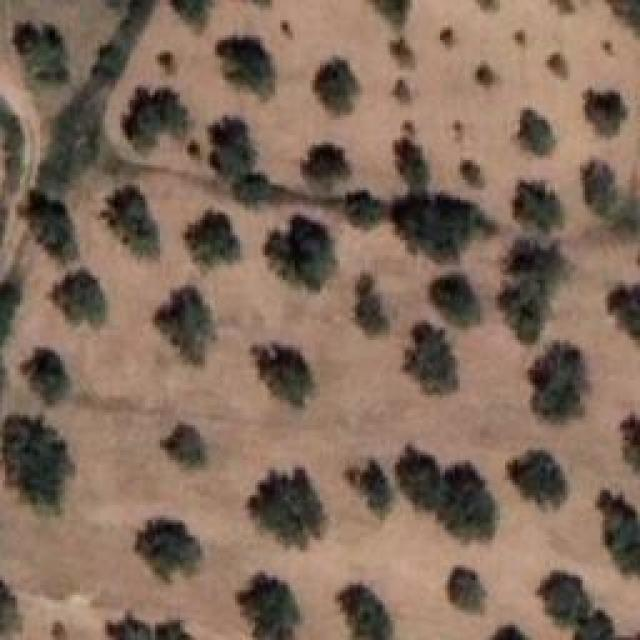Tree: (498, 238, 567, 344), (390, 193, 496, 261), (248, 468, 327, 548), (8, 418, 74, 511), (265, 215, 339, 291), (155, 285, 215, 365), (438, 464, 498, 544), (528, 343, 587, 421), (102, 185, 160, 258), (135, 518, 201, 581), (403, 323, 459, 396), (123, 88, 188, 150), (238, 573, 297, 640), (253, 343, 314, 406), (508, 450, 569, 508), (30, 190, 79, 262), (50, 270, 108, 327), (220, 40, 276, 99), (395, 442, 440, 514), (602, 490, 640, 575), (185, 210, 241, 267), (13, 25, 68, 83), (338, 585, 393, 640), (207, 115, 255, 178), (538, 573, 593, 626), (312, 58, 360, 116), (345, 460, 391, 520), (23, 348, 72, 404), (430, 277, 481, 327), (515, 180, 564, 232), (107, 615, 195, 640), (580, 160, 618, 216), (355, 273, 389, 334), (160, 423, 206, 466), (393, 140, 434, 186), (518, 108, 557, 156), (345, 190, 386, 235), (587, 90, 627, 136), (607, 284, 640, 339), (450, 568, 488, 614), (303, 147, 352, 182), (235, 173, 274, 210), (107, 612, 155, 640), (170, 0, 212, 32), (575, 610, 616, 640), (607, 0, 640, 35), (620, 415, 640, 472), (0, 580, 21, 633), (372, 0, 410, 29), (393, 38, 415, 67), (490, 625, 530, 640), (463, 160, 484, 187), (278, 18, 297, 42), (550, 52, 568, 77), (478, 65, 497, 87), (392, 80, 410, 103), (158, 53, 174, 76), (453, 118, 469, 141), (400, 118, 417, 138), (52, 622, 70, 640), (550, 0, 572, 13), (478, 0, 500, 11), (440, 28, 451, 48), (513, 30, 526, 46), (602, 40, 612, 54)
